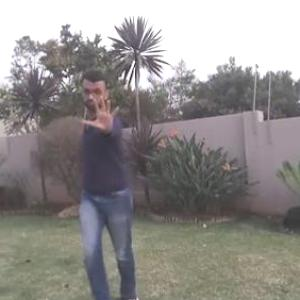follow_hand: (80, 92, 122, 135)
